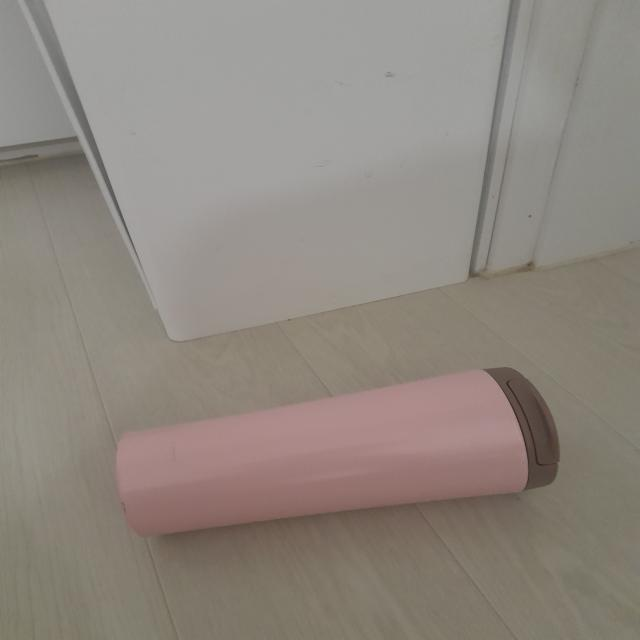waterbottle: (124, 368, 561, 539)
